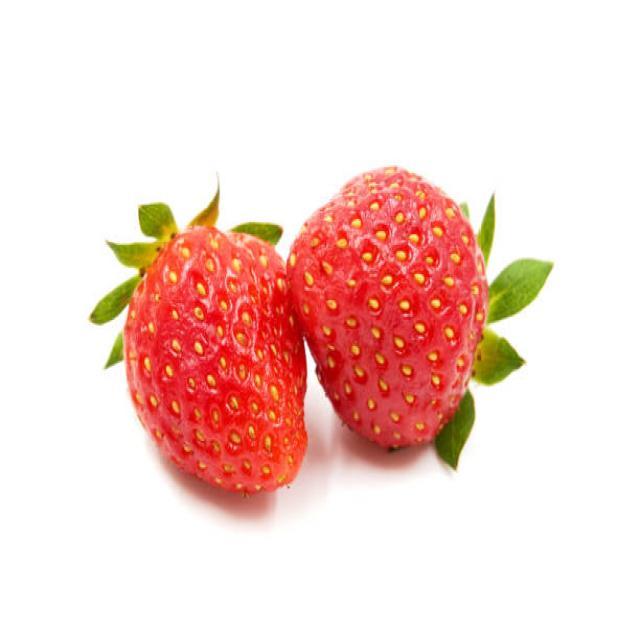Healthy Fruit: (287, 165, 488, 449), (123, 225, 307, 491)
